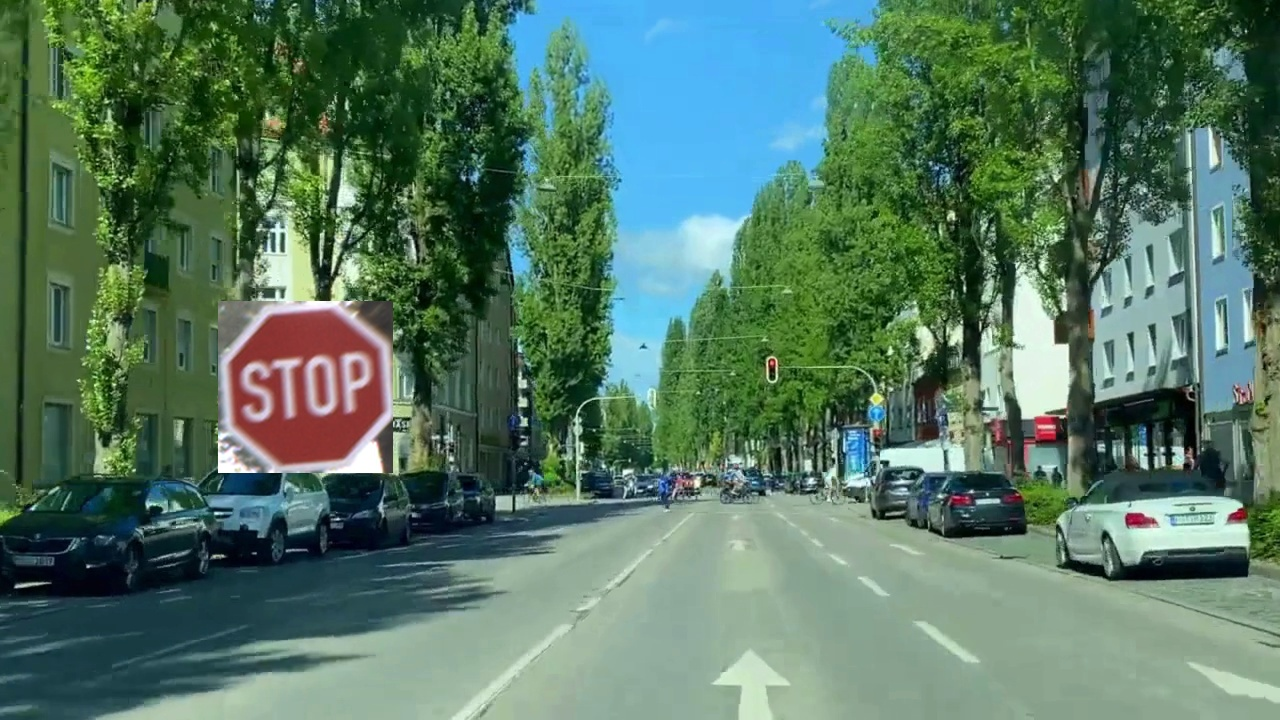Stop: (218, 301, 393, 473)
